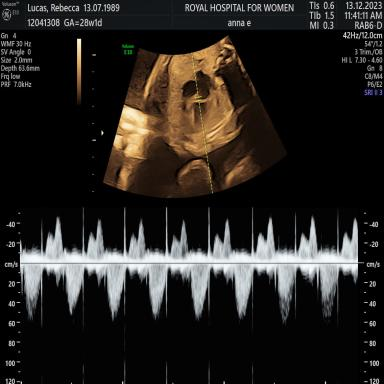Ultrasound-Waves: (27, 206, 356, 384)
